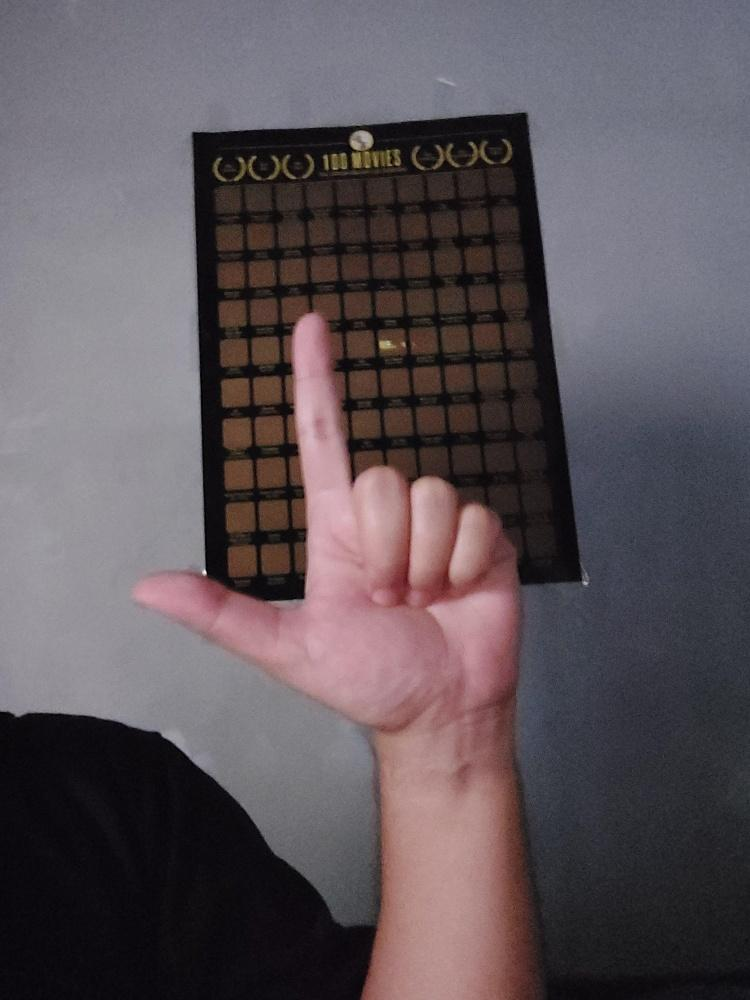l: (123, 304, 525, 713)
